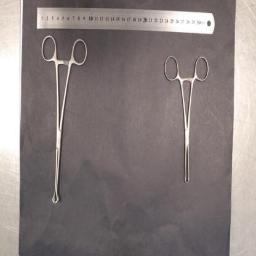Allis Tissue Forceps: (164, 55, 210, 183)
